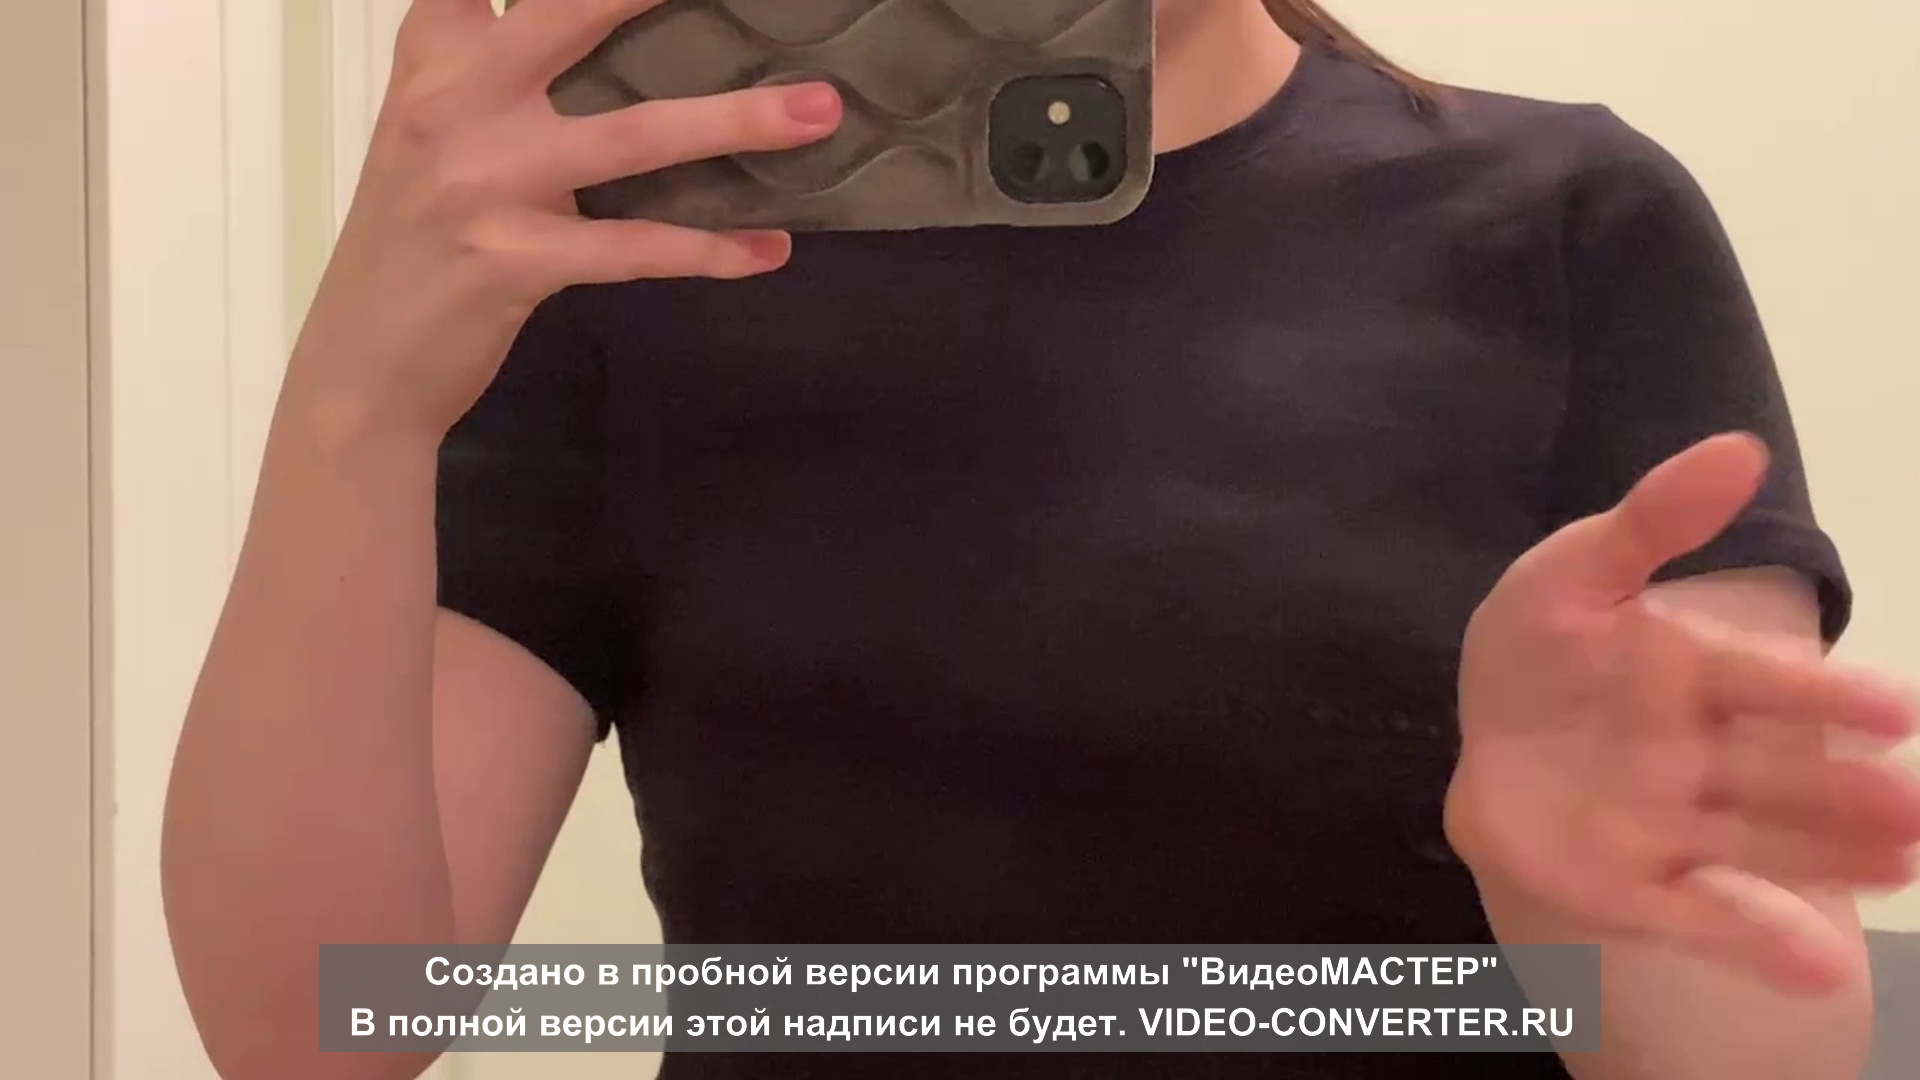Ладонь: (1443, 433, 1920, 996)
